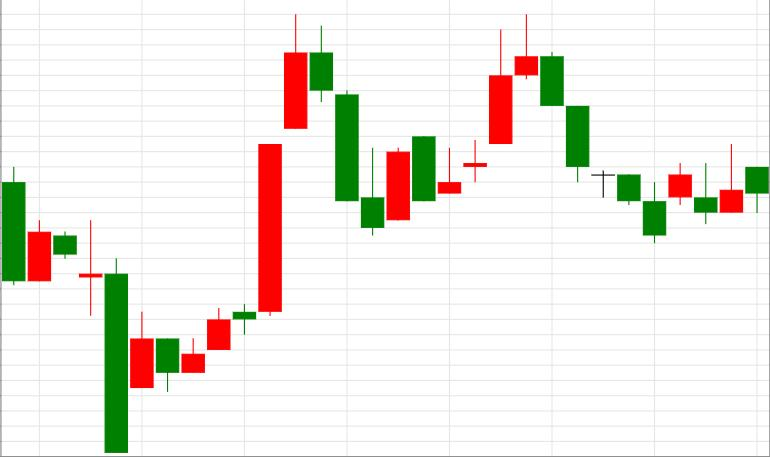inverse_hammer_rise: (284, 13, 384, 236)
shooting_star_fall: (437, 13, 537, 195)
